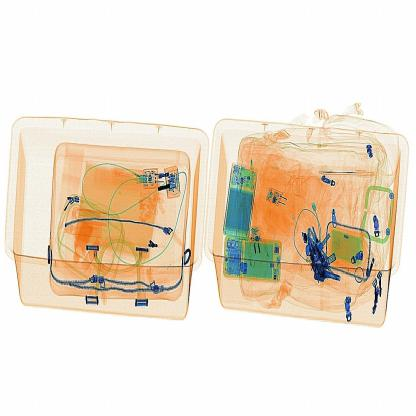pliers: (317, 163, 384, 187)
